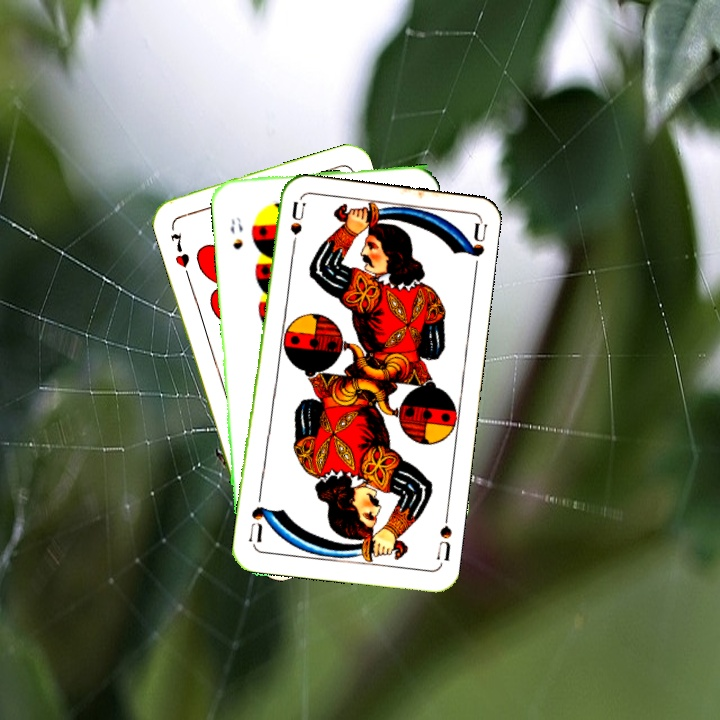H7: (166, 229, 192, 271)
S8: (226, 213, 246, 252)
SU: (286, 198, 307, 258), (432, 521, 455, 563)
